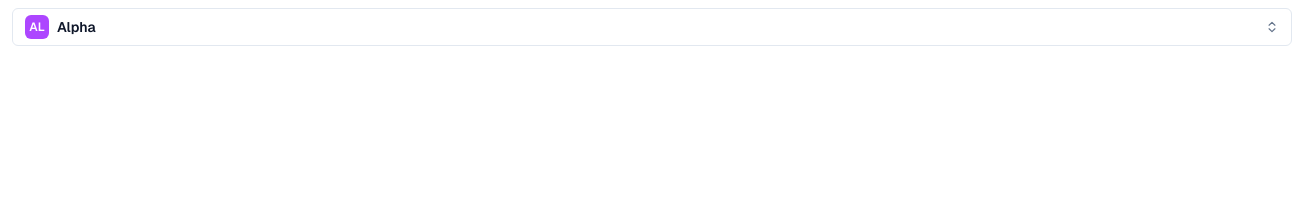
Test case: WorkspaceSwitcher › should open the menu and list all workspaces plus manage link
The width and height of the screenshot is (1304, 211).
Step 1. Click the button "AL Alpha" → click(76, 27), box [12,8,1292,46]
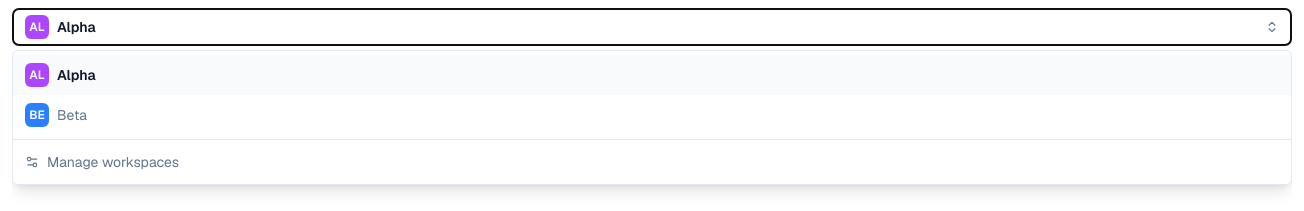
Now the menu is shown
Now the menu item "AL Alpha" is shown, box [13,55,1291,95]
Now the menu item "BE Beta" is shown, box [13,95,1291,135]
